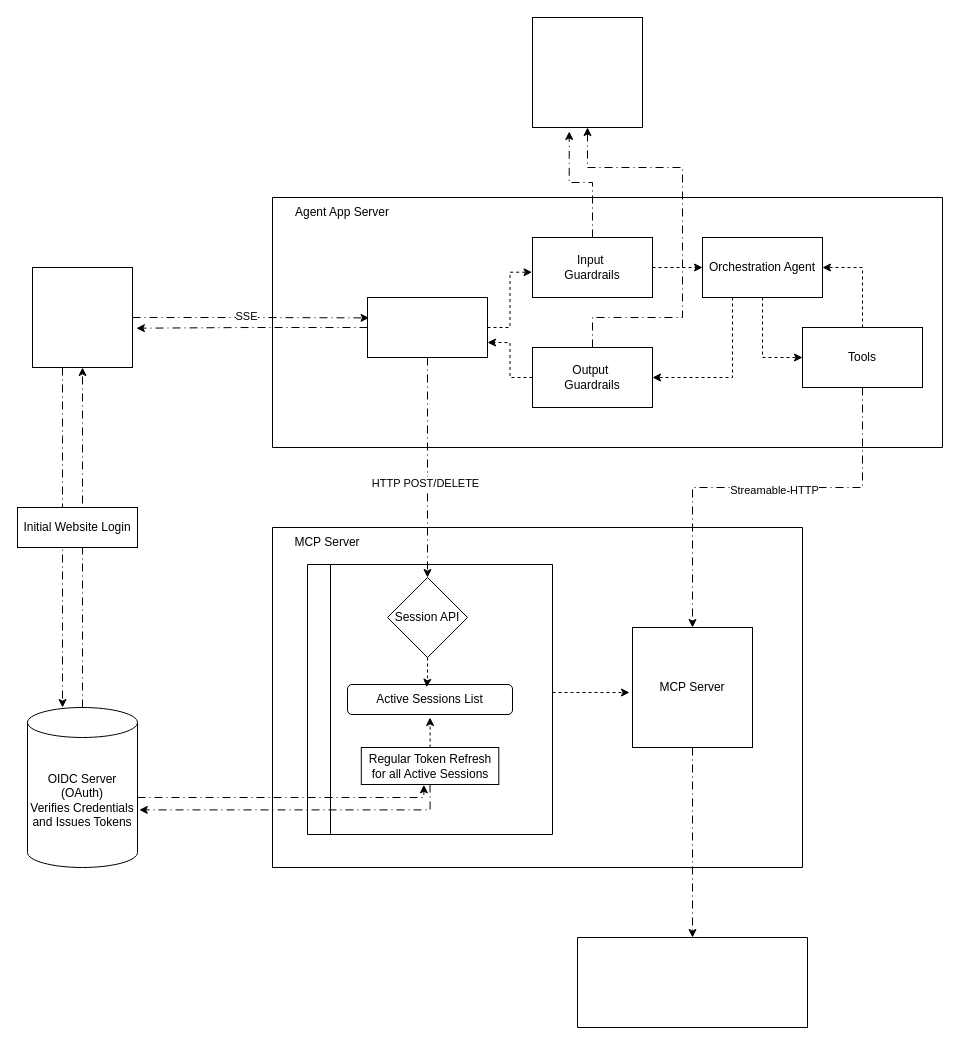
Some shapes in this 960 by 1045 pixel diagram are drawn without their labels. Here are the shapes that lost their labels. From the top down, the box of each, then its label:
(532, 16, 642, 128): Guardrail Server Prompt Injection Detection / Abuse Detection
(32, 266, 132, 368): Frontend (App, Website)
(366, 296, 488, 358): Session Handler
(306, 564, 552, 834): State Management
(576, 936, 808, 1028): Internal API Services
